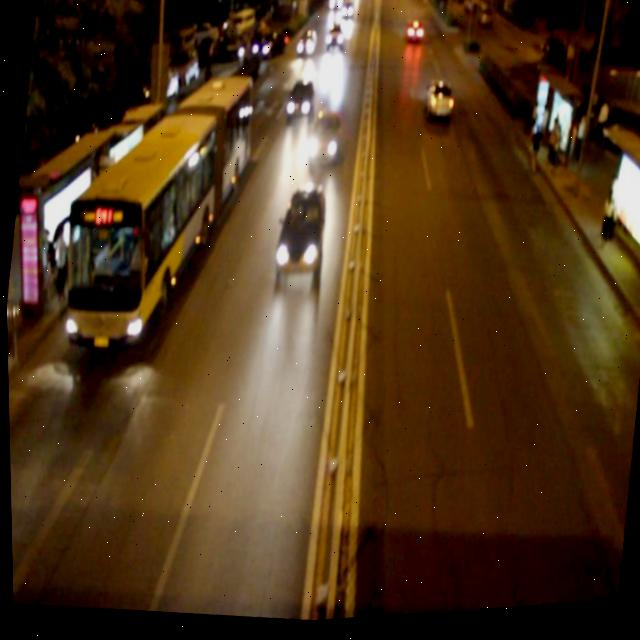car: (270, 184, 329, 286), (304, 110, 345, 174), (283, 77, 317, 127), (422, 79, 457, 126), (293, 28, 319, 63)
van: (47, 55, 251, 361)
